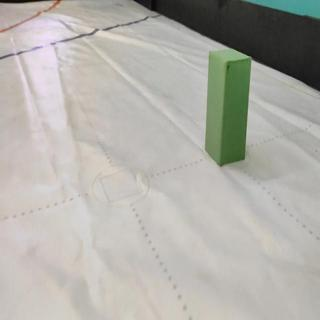greenbox: (205, 49, 250, 165)
